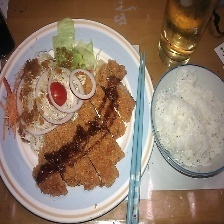rice: (153, 72, 224, 172)
